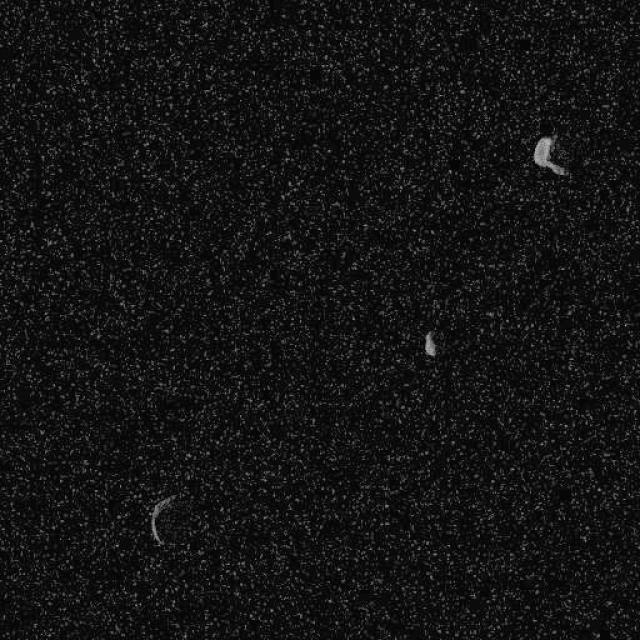D2: (148, 492, 178, 546), (531, 134, 569, 176), (422, 330, 437, 358)
